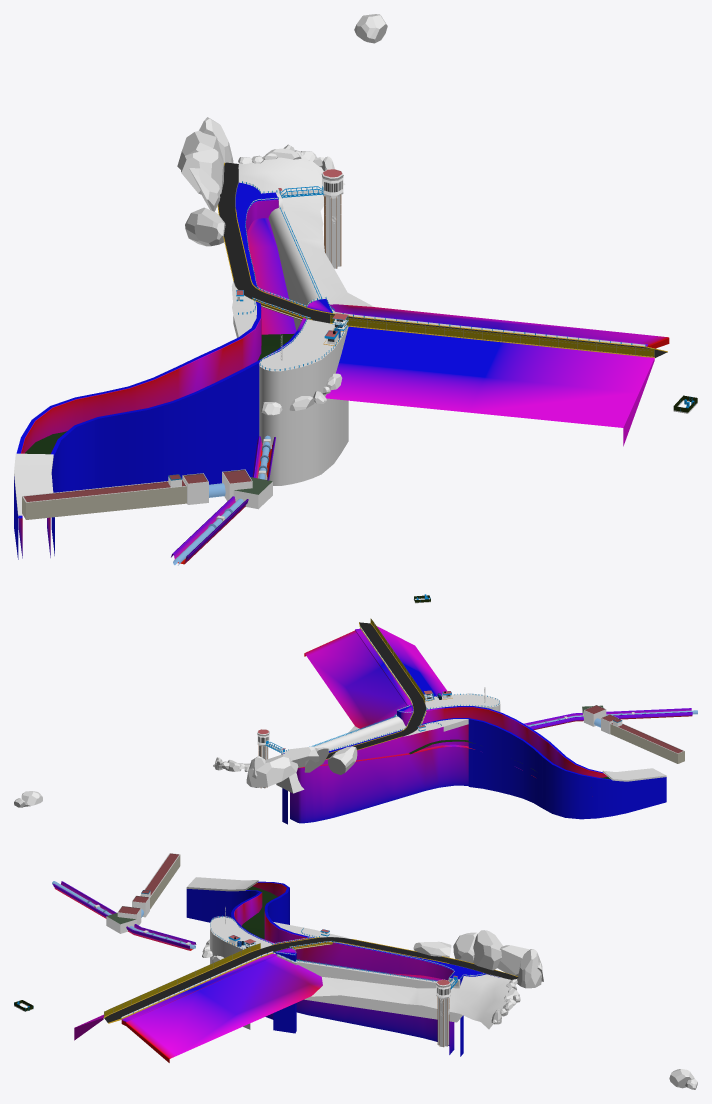
Rendered from Msh_Sitio_04.glb.
3 renders of one model, top to bottom at view 1: azimuth 30°, elevation 25°; view 2: azimuth 150°, elevation 25°; view 3: azimuth 270°, elevation 25°, orthographic. The views are drawn at different scales.
Visible parts, largest first — view 1: Msh_Sitio_04, Msh_Rocks, Msh_Sitio_AguaCanal; view 2: Msh_Sitio_04, Msh_Rocks; view 3: Msh_Sitio_04, Msh_Rocks, Msh_Sitio_AguaCanal.
Boxes of the visible parts, x1,y1,x2,y2 form: Msh_Sitio_04: (14,152,697,565); Msh_Rocks: (177,14,387,415); Msh_Sitio_AguaCanal: (25,333,294,454); Msh_Sitio_04: (238,594,697,824); Msh_Rocks: (14,746,357,807); Msh_Sitio_04: (14,853,518,1062); Msh_Rocks: (202,930,697,1089); Msh_Sitio_AguaCanal: (242,886,301,960).
Bounding box in the file's own units: 381 × 76.02 × 448.
